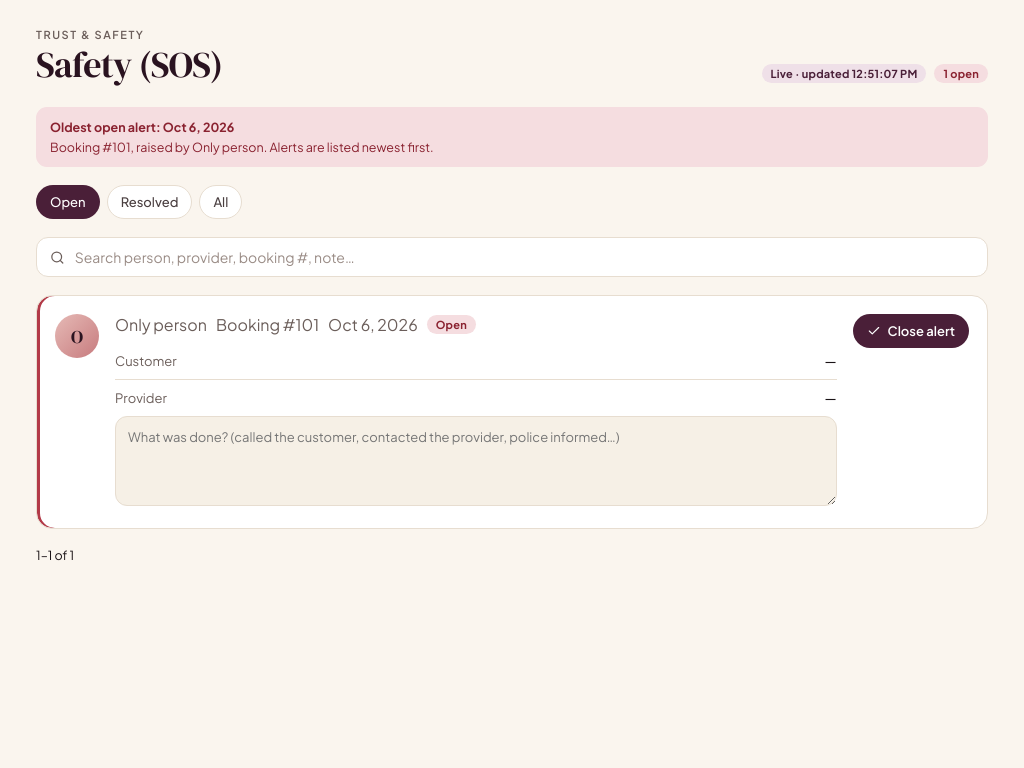
<Safety> - the oldest-open-alert banner (R6-03) › closing the LAST open alert clears the banner
Check: the text "raised by Only person" is shown, box [50,139,434,155]
Replace the text in the text box with placeholder "What was done" with "handled" at (476, 461), box [115,416,836,506]
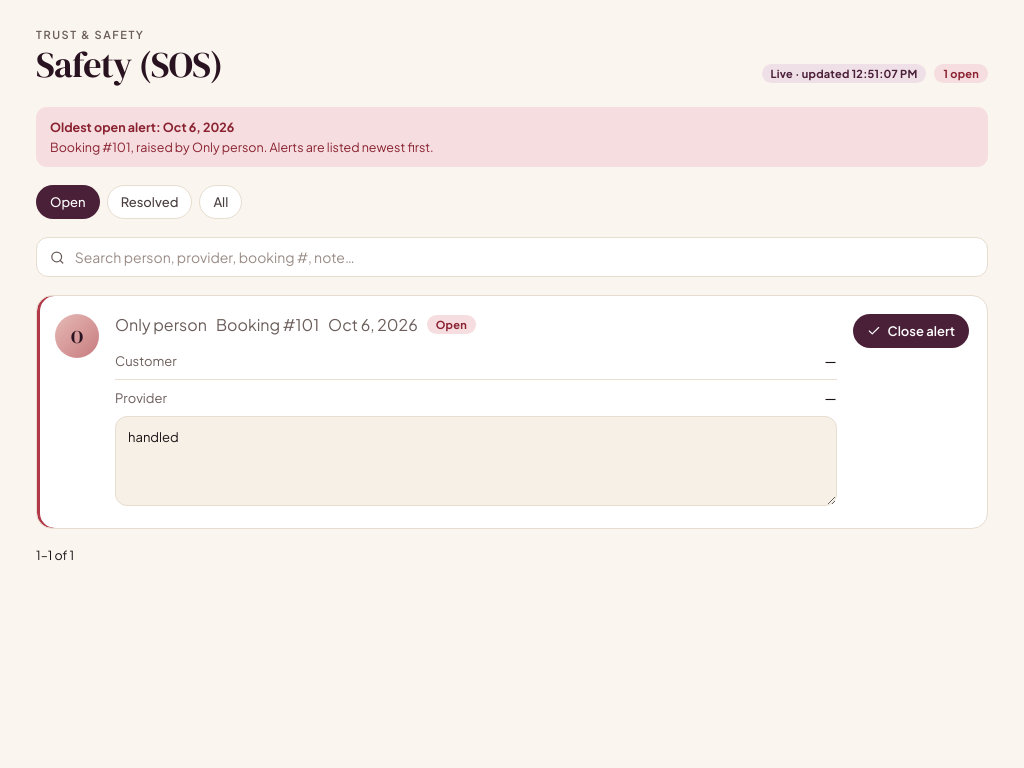
Click the button "Close alert" at (911, 331), box [852,314,969,348]
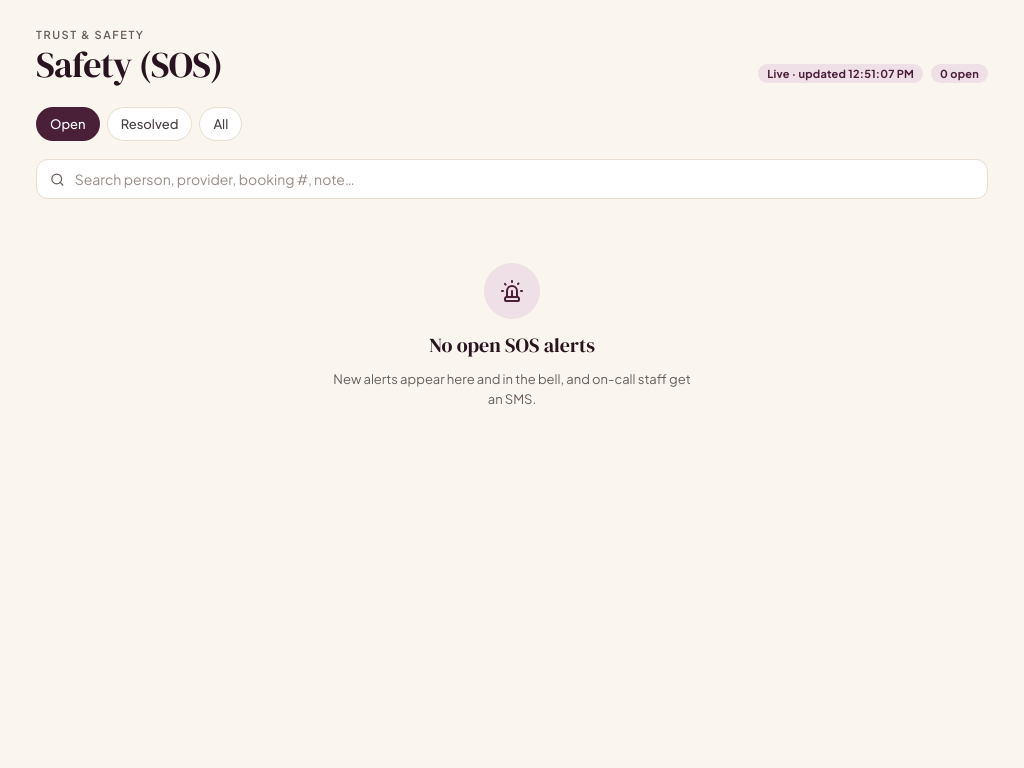
Check: the text "Oldest open alert" is gone
Check: the text "No open SOS alerts" is shown, box [429,331,595,359]
